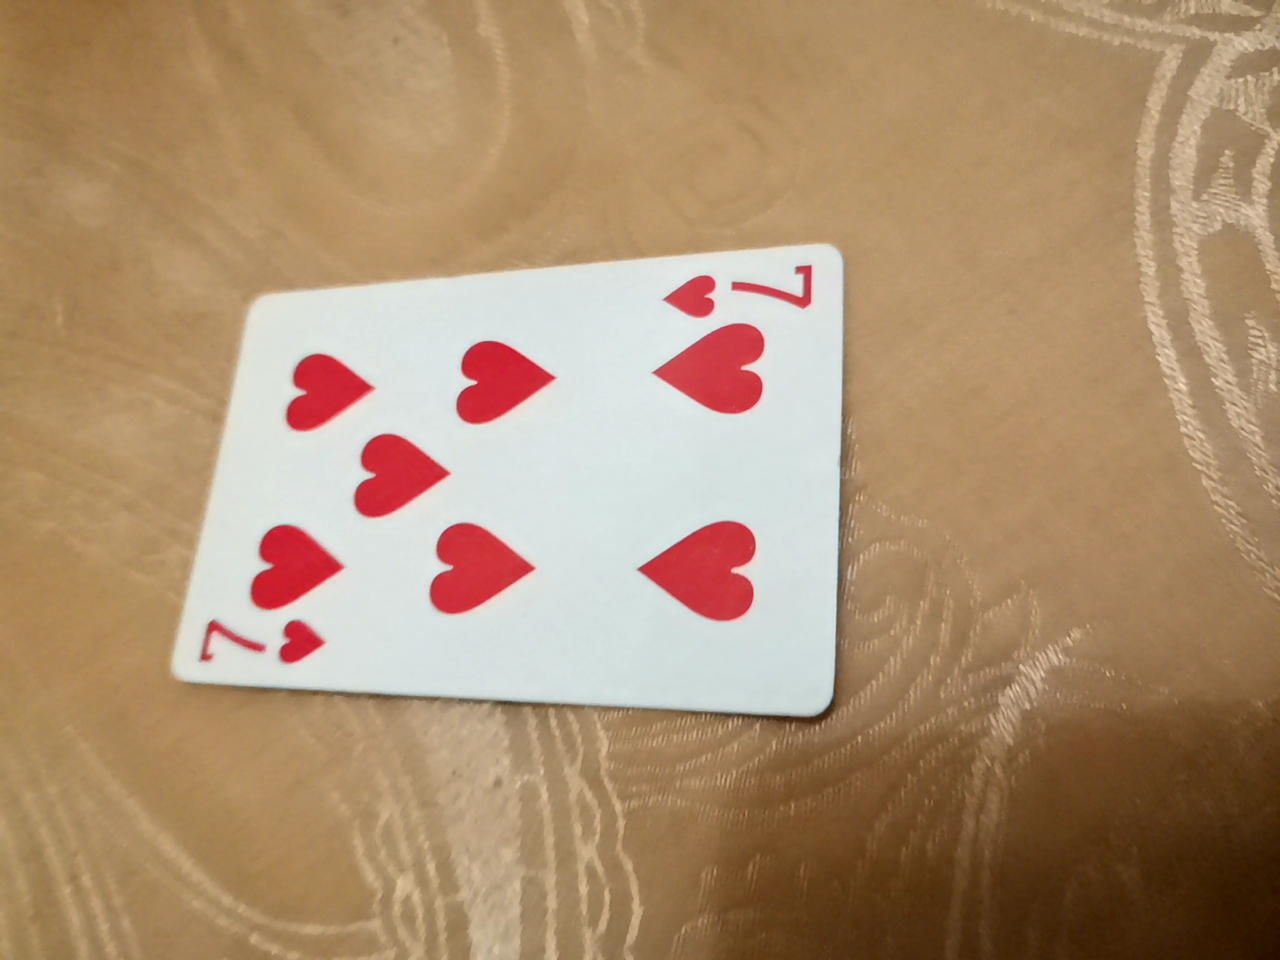hx 7: (138, 219, 878, 739)
